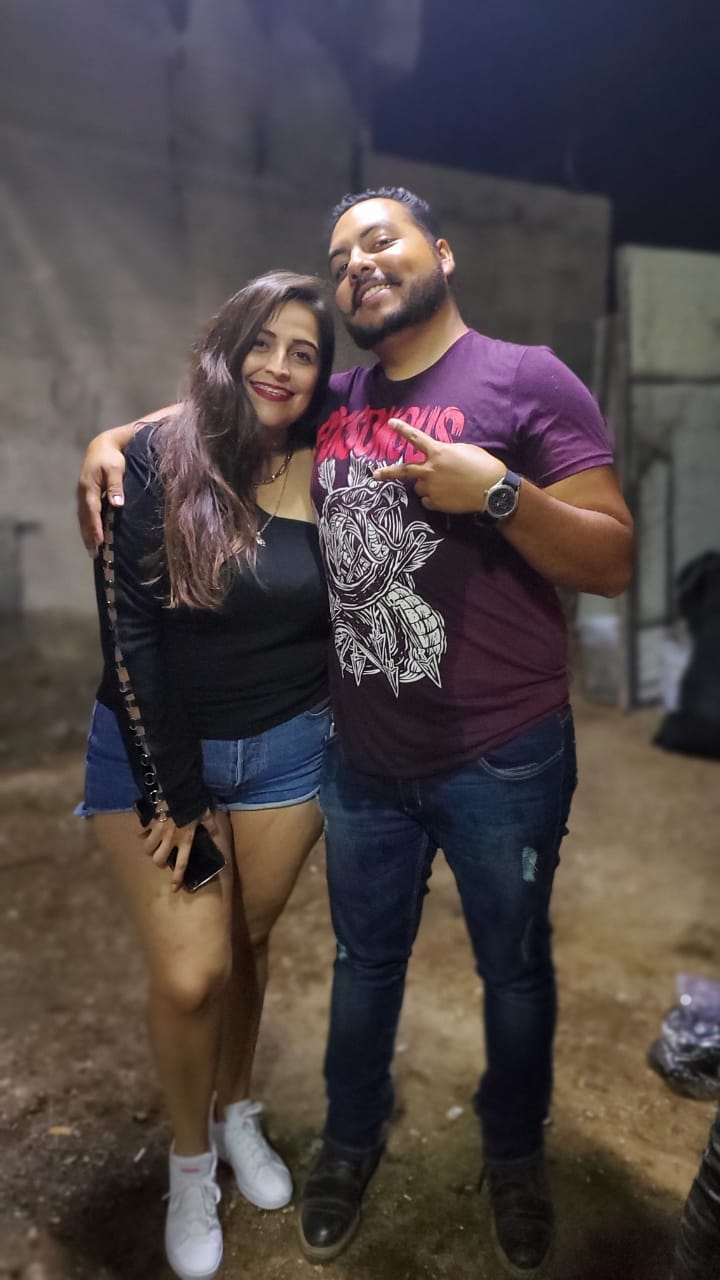Yoshi: (311, 181, 515, 407)
